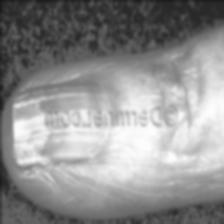Toxin: (6, 76, 46, 180)
